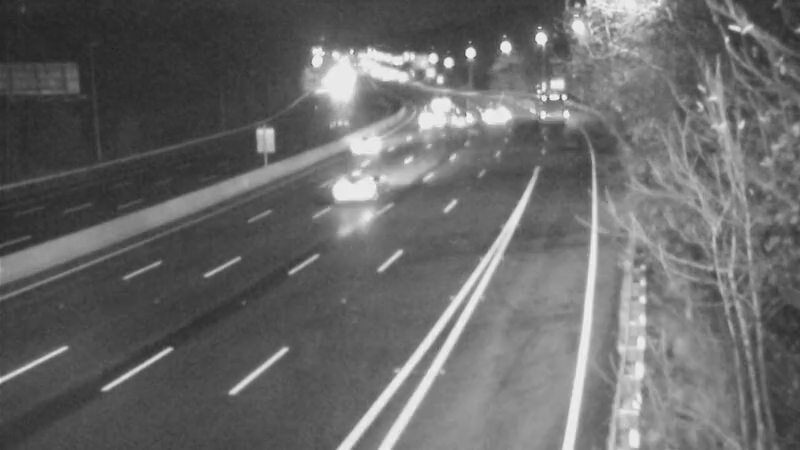vehicle: (334, 144, 414, 224), (401, 96, 451, 146), (516, 74, 566, 124), (413, 76, 463, 126), (462, 92, 512, 142), (435, 96, 485, 146), (338, 117, 388, 167)
